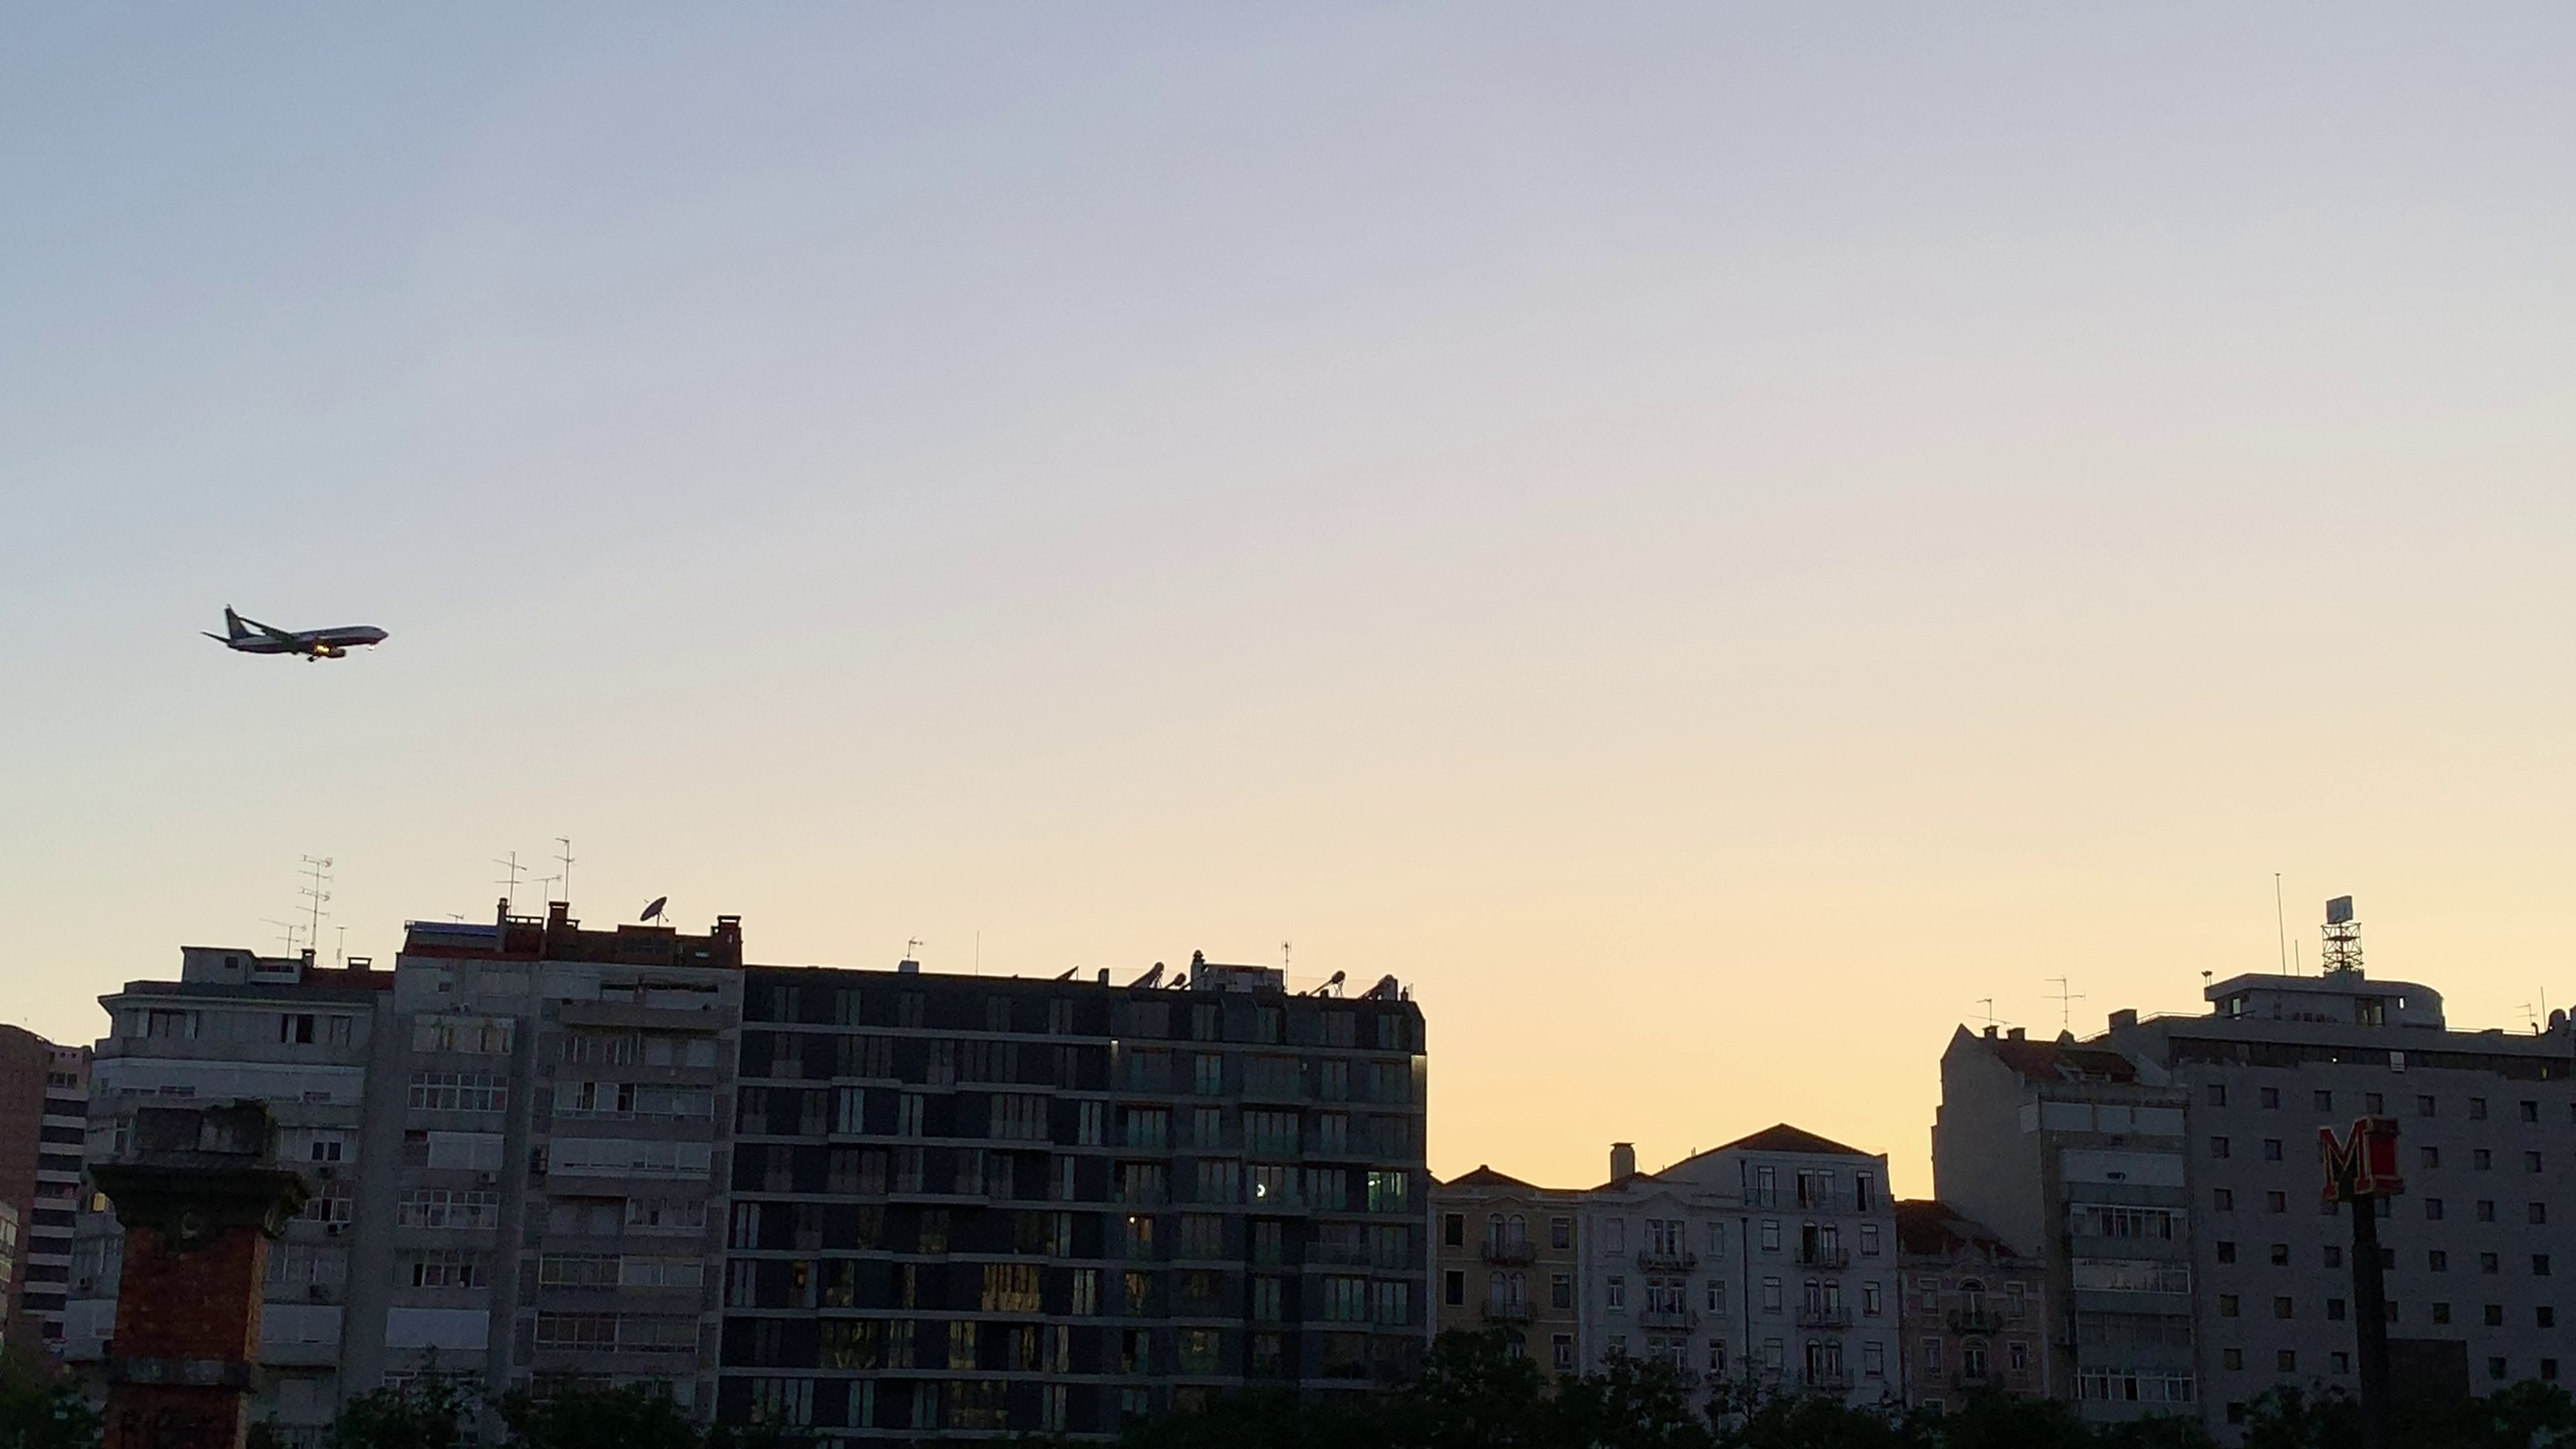plane: (198, 603, 391, 663)
